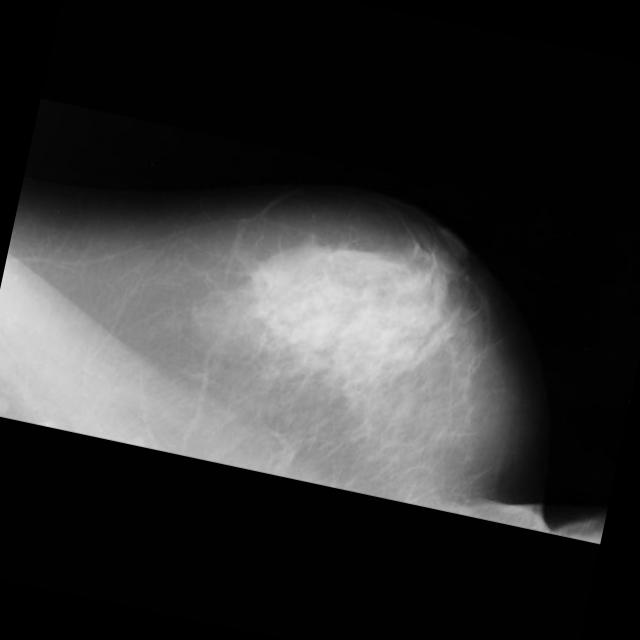CALC: (114, 163, 120, 167)
